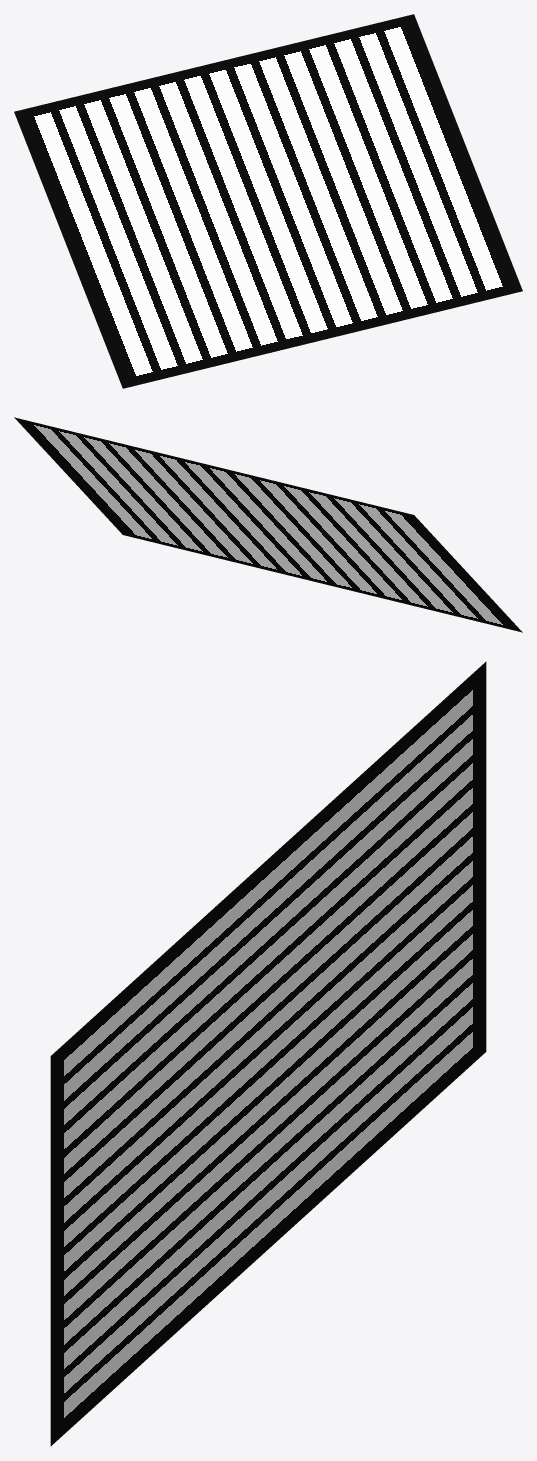
File: visualizer_screen.gltf
The picture shows the model from 3 angles, top to bottom: view 1: azimuth 30°, elevation 25°; view 2: azimuth 150°, elevation 25°; view 3: azimuth 270°, elevation 25°; orthographic projection. The views are drawn at different scales.
Parts seen in each view (by area): view 1: visualizer_screen; view 2: visualizer_screen; view 3: visualizer_screen.
Part boxes in pixels (x1=…): visualizer_screen: x1=14, y1=14, x2=522, y2=388; visualizer_screen: x1=14, y1=417, x2=522, y2=632; visualizer_screen: x1=50, y1=661, x2=486, y2=1446.
Size of the model in its own units: 0.75 by 0.3536 by 0.3536.
Materials: 1 (1 with a texture image).
